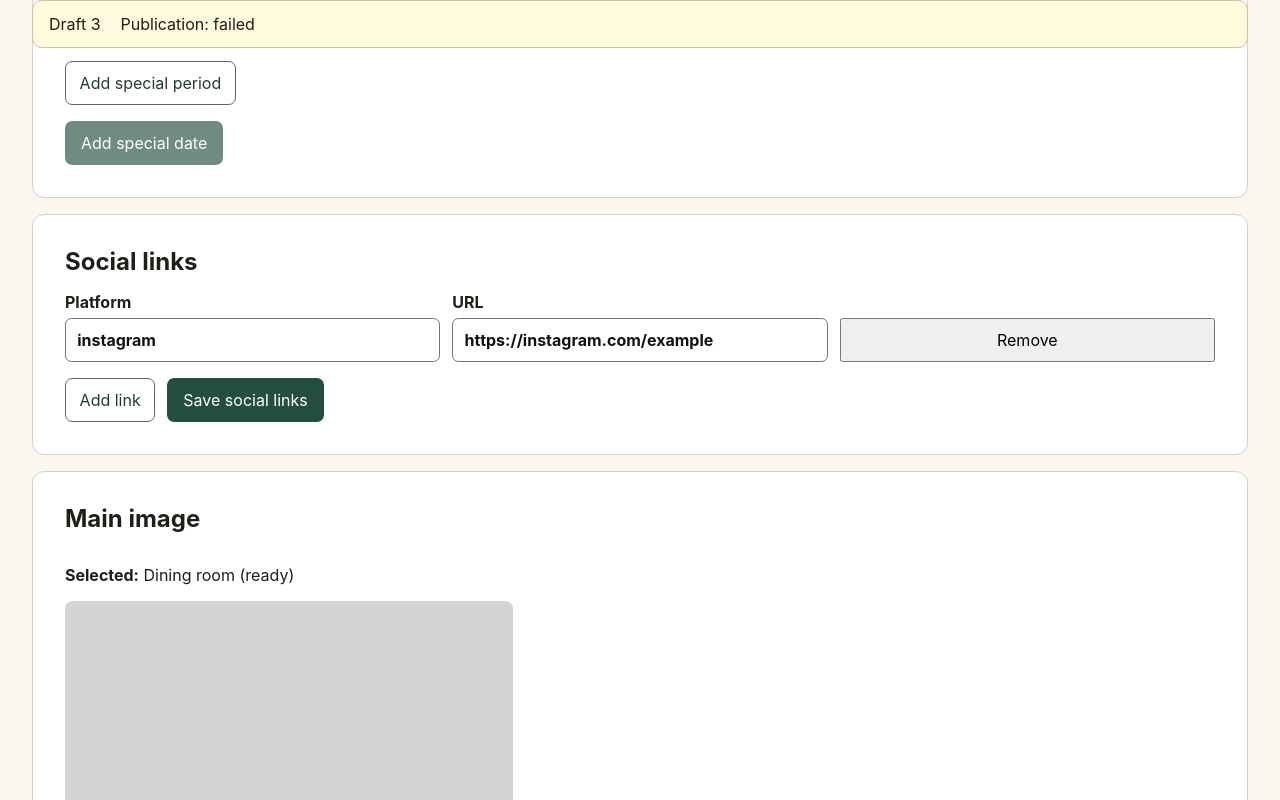
Test case: RestaurantEditor › maps social URL errors inline and focuses the affected platform group
This screenshot has width=1280, height=800.
(page scrolled)
Click the button "Save social links". click: {"x": 246, "y": 400}
box: [167,378,324,422]
(page scrolled)
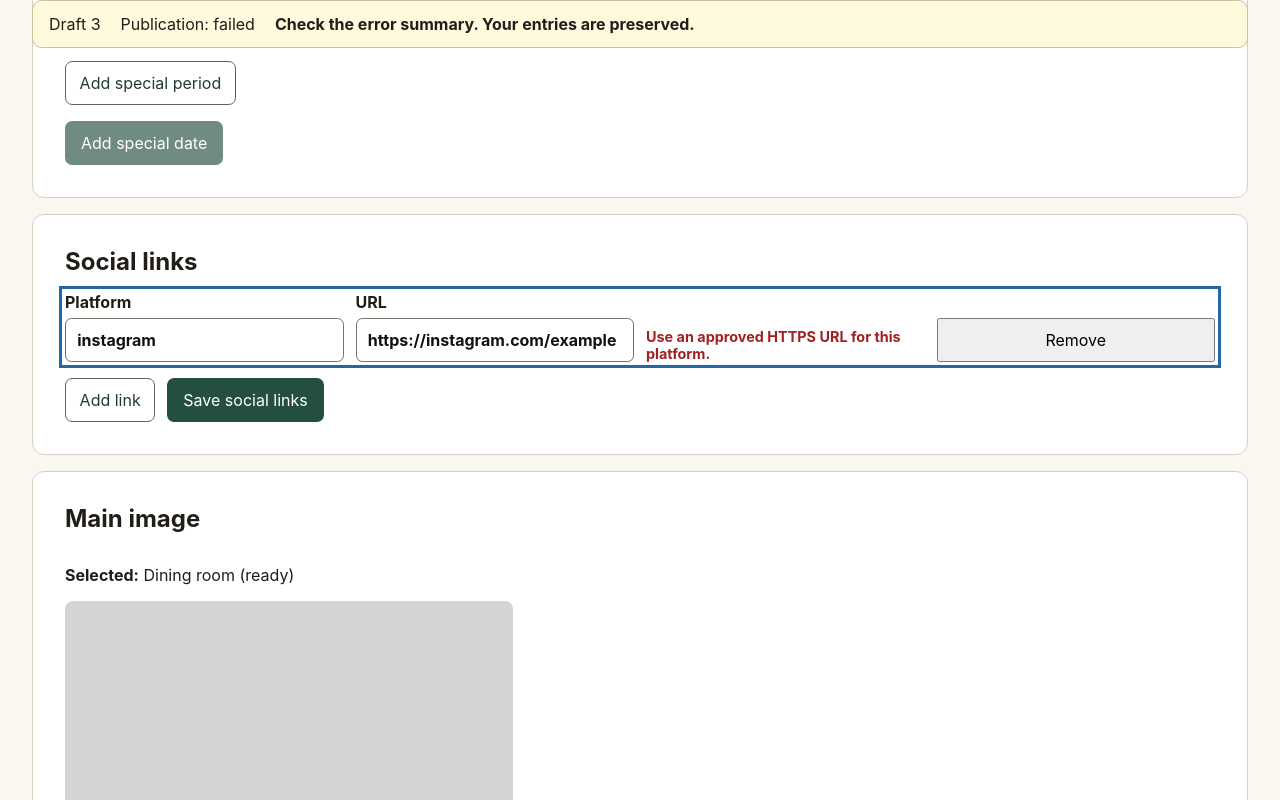
Expected: the field labelled "URL" holds "https://instagram.com/example", [356,318,634,362]
Expected: the text "Use an approved HTTPS URL for this platform." is shown, [646,328,924,362]
